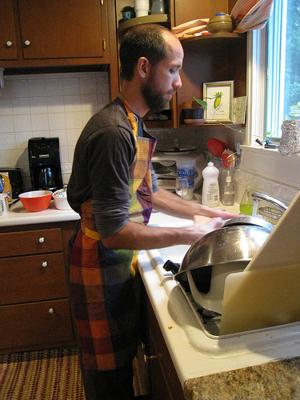person: (69, 20, 247, 400)
